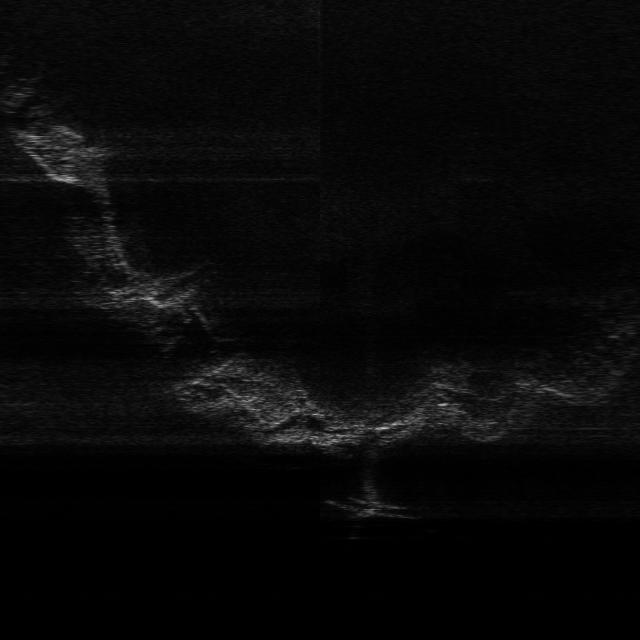plane: (322, 493, 421, 521)
